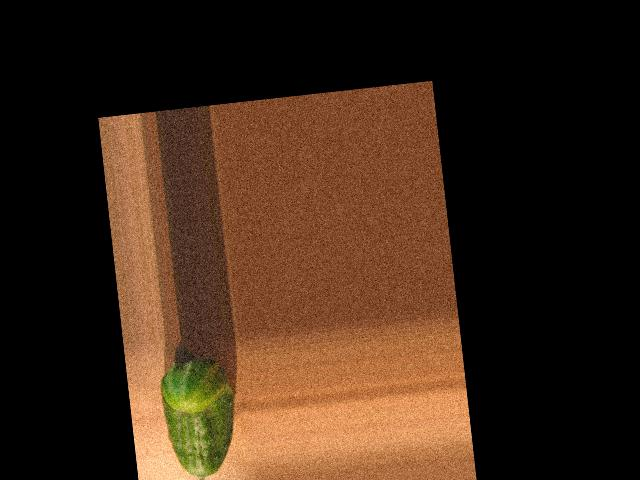cucumber: (157, 356, 241, 480)
